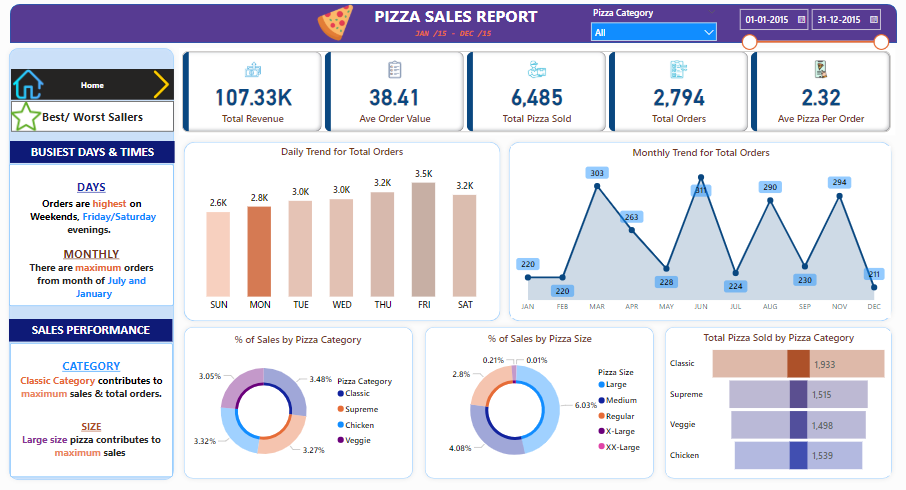

This screenshot's page, from the dashboard's own definition file:
{"tool":"powerbi","page":{"name":"Home","canvas":[1500,820],"ordinal":0},"visuals":[{"type":"shape","box":[16.7,78.3,286.7,725],"z":0},{"type":"textbox","box":[25.7,240,270,35.7],"z":1000},{"type":"cardVisual","fields":{"Data":["pizza_sales.Total Revenue","pizza_sales.Ave Order Value","pizza_sales.Total Pizza Sold","pizza_sales.Total Orders","pizza_sales.Ave Pizza Per Order"]},"box":[303.3,86.7,1175,143.3],"z":2000},{"type":"shape","box":[26.2,14.8,1454.7,64],"z":3000},{"type":"textbox","box":[603.5,9.8,300.1,49.2],"z":4000},{"type":"textbox","box":[685.5,47.6,157.4,27.9],"z":5000},{"type":"image","box":[523.2,9.8,73.8,70.5],"z":6000},{"type":"shape","box":[303.3,233.3,535,310],"z":7000},{"type":"columnChart","title":"Daily Trend for Total Orders","fields":{"Category":["pizza_sales.Order Day"],"Y":["pizza_sales.Total Orders"]},"box":[316.7,246.7,508.3,281.7],"z":8000},{"type":"shape","box":[836.7,233.3,643.3,310],"z":9000},{"type":"areaChart","title":"Monthly Trend for Total Orders","fields":{"Y":["pizza_sales.Total Orders"],"Category":["pizza_sales.Order Month"]},"box":[848.3,248.3,623.3,281.7],"z":10000},{"type":"shape","box":[303.3,536.7,391.7,265],"z":11000},{"type":"shape","box":[1091.7,536.7,388.3,265],"z":12000},{"type":"shape","box":[698.3,536.7,391.7,265],"z":13000},{"type":"donutChart","title":"% of Sales by Pizza Category","fields":{"Category":["pizza_sales.pizza_category"],"Y":["pizza_sales.Total Revenue"]},"box":[316.7,555,363.3,235],"z":14000},{"type":"donutChart","title":"% of Sales by Pizza Size","fields":{"Y":["pizza_sales.Total Revenue"],"Category":["pizza_sales.pizza_size"]},"box":[713.3,553.3,363.3,235],"z":15000},{"type":"funnel","title":"Total Pizza Sold by Pizza Category","fields":{"Y":["pizza_sales.Total Pizza Sold"],"Category":["pizza_sales.pizza_category"]},"box":[1103.3,551.7,366.7,236.7],"z":16000},{"type":"textbox","box":[25,276.7,270,233.3],"z":17000},{"type":"textbox","box":[26.7,570,266.7,220],"z":18000},{"type":"textbox","box":[25,531.7,268.3,36.7],"z":19000},{"type":"slicer","fields":{"Values":["pizza_sales.pizza_category"]},"box":[969.2,13.1,226.3,62.3],"z":20000},{"type":"multiRowCard","fields":{"Values":["pizza_sales.order_date"]},"box":[1210.3,13.1,265.7,83.6],"z":21000},{"type":"pageNavigator","box":[27.1,121.4,267.1,50],"z":22000},{"type":"pageNavigator","box":[27.1,174.3,267.1,50],"z":23000},{"type":"image","box":[246.7,118.3,56.7,56.7],"z":24000},{"type":"image","box":[26.7,116.7,60,60],"z":25000},{"type":"image","box":[20,168.3,66.7,60],"z":26000}]}

Visuals, with their boxes in screenshot pixels (x1, y1, x2, y2), scaled from the page's 1500x820 canvas onto the 906x490 screenshot:
shape: <bbox>10, 47, 183, 480</bbox>
textbox: <bbox>16, 143, 179, 165</bbox>
cardVisual - pizza_sales.Total Revenue x pizza_sales.Ave Order Value: <bbox>183, 52, 893, 137</bbox>
shape: <bbox>16, 9, 894, 47</bbox>
textbox: <bbox>365, 6, 546, 35</bbox>
textbox: <bbox>414, 28, 509, 45</bbox>
image: <bbox>316, 6, 361, 48</bbox>
shape: <bbox>183, 139, 506, 325</bbox>
"Daily Trend for Total Orders" columnChart: <bbox>191, 147, 498, 316</bbox>
shape: <bbox>505, 139, 894, 325</bbox>
"Monthly Trend for Total Orders" areaChart: <bbox>512, 148, 889, 317</bbox>
shape: <bbox>183, 321, 420, 479</bbox>
shape: <bbox>659, 321, 894, 479</bbox>
shape: <bbox>422, 321, 658, 479</bbox>
"% of Sales by Pizza Category" donutChart: <bbox>191, 332, 411, 472</bbox>
"% of Sales by Pizza Size" donutChart: <bbox>431, 331, 650, 471</bbox>
"Total Pizza Sold by Pizza Category" funnel: <bbox>666, 330, 888, 471</bbox>
textbox: <bbox>15, 165, 178, 305</bbox>
textbox: <bbox>16, 341, 177, 472</bbox>
textbox: <bbox>15, 318, 177, 340</bbox>
slicer - pizza_sales.pizza_category: <bbox>585, 8, 722, 45</bbox>
multiRowCard - pizza_sales.order_date: <bbox>731, 8, 892, 58</bbox>
pageNavigator: <bbox>16, 73, 178, 102</bbox>
pageNavigator: <bbox>16, 104, 178, 134</bbox>
image: <bbox>149, 71, 183, 105</bbox>
image: <bbox>16, 70, 52, 106</bbox>
image: <bbox>12, 101, 52, 136</bbox>
